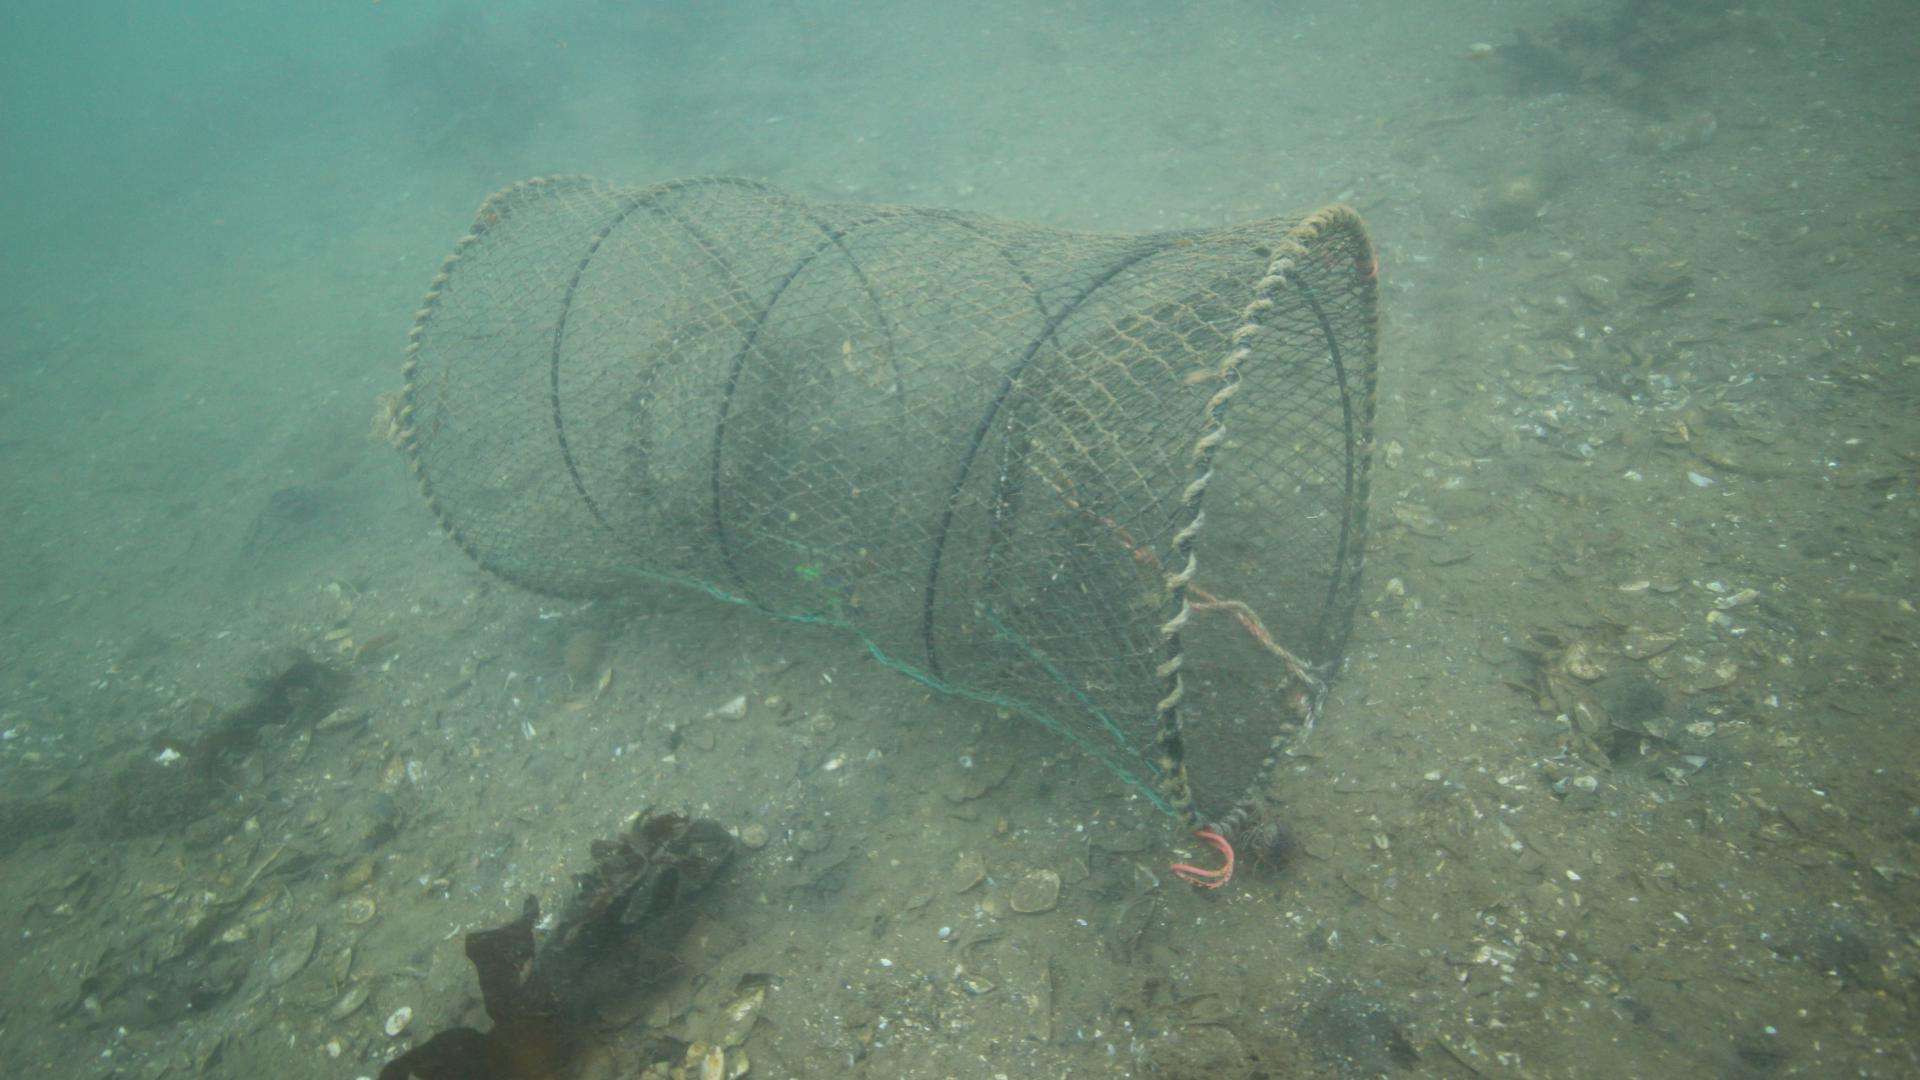spring fish trap: (396, 171, 1379, 844)
